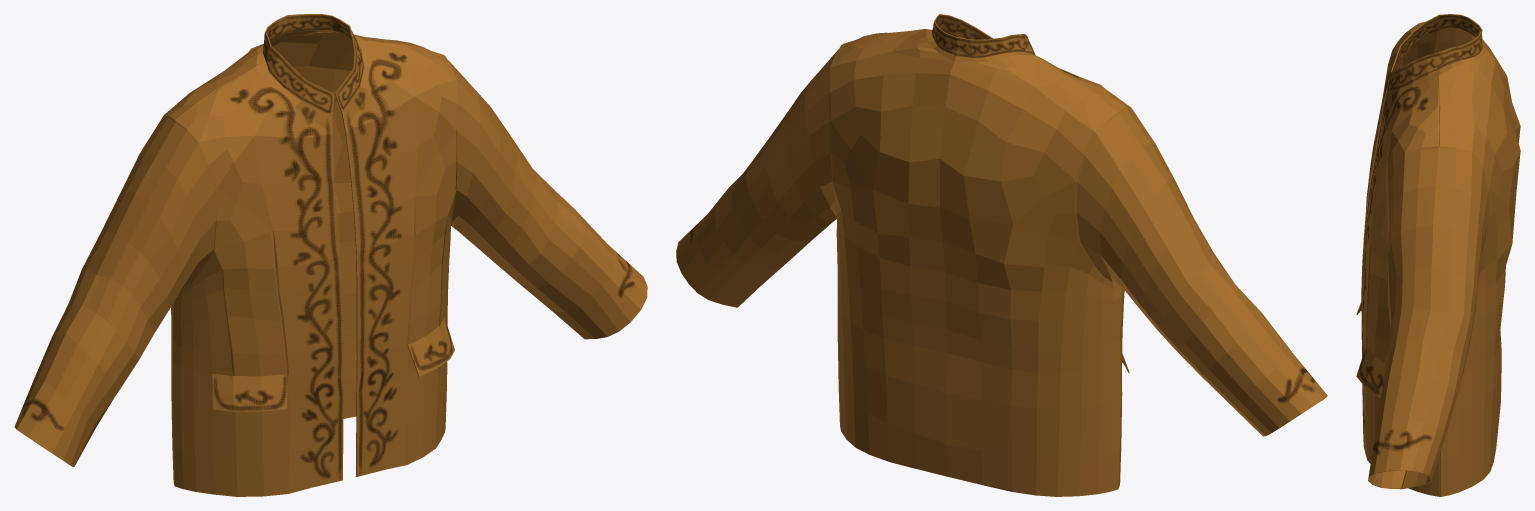
Rendered from jacket.gltf.
3 renders of one model, left to right at view 1: azimuth 30°, elevation 25°; view 2: azimuth 150°, elevation 25°; view 3: azimuth 270°, elevation 25°, orthographic. The views are drawn at different scales.
Parts seen in each view (by area): view 1: Jacket; view 2: Jacket; view 3: Jacket.
Part boxes in pixels (x1=…): Jacket: x1=14, y1=14, x2=647, y2=496; Jacket: x1=676, y1=14, x2=1327, y2=496; Jacket: x1=1356, y1=14, x2=1520, y2=496.
Bounding box in the file's own units: 16.43 × 10.58 × 3.89.
1 material, 1 textured.
